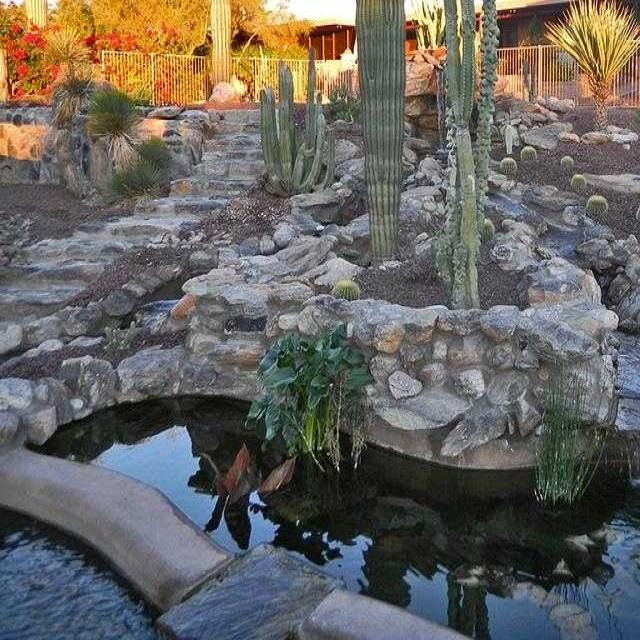Ponds: (1, 297, 640, 640)
